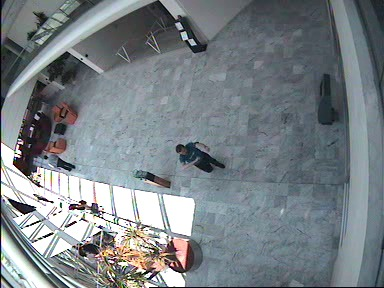person: (175, 141, 224, 173), (42, 153, 76, 171), (68, 200, 104, 214)
